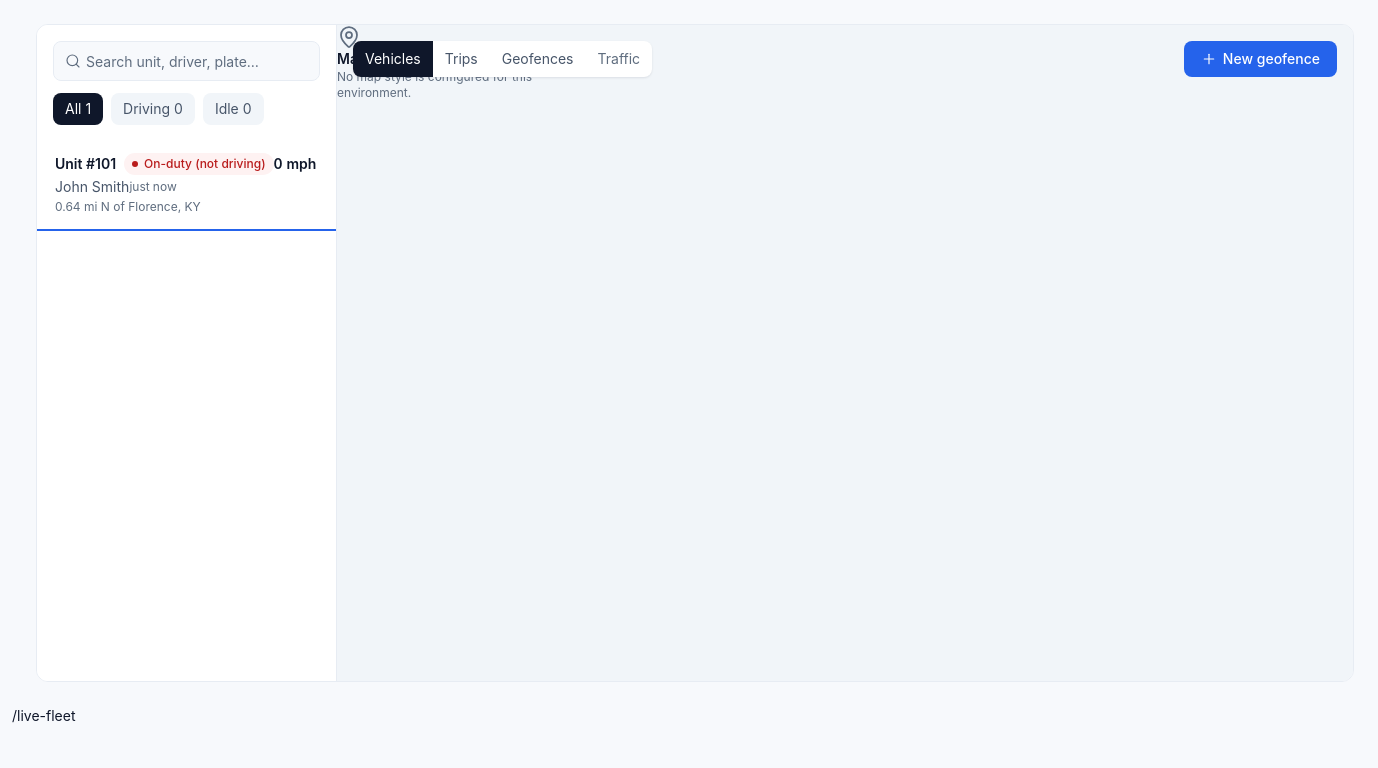
W-02 Live Fleet › the left column is a fully keyboard-operable list — no pointer required to select a unit
Press Enter
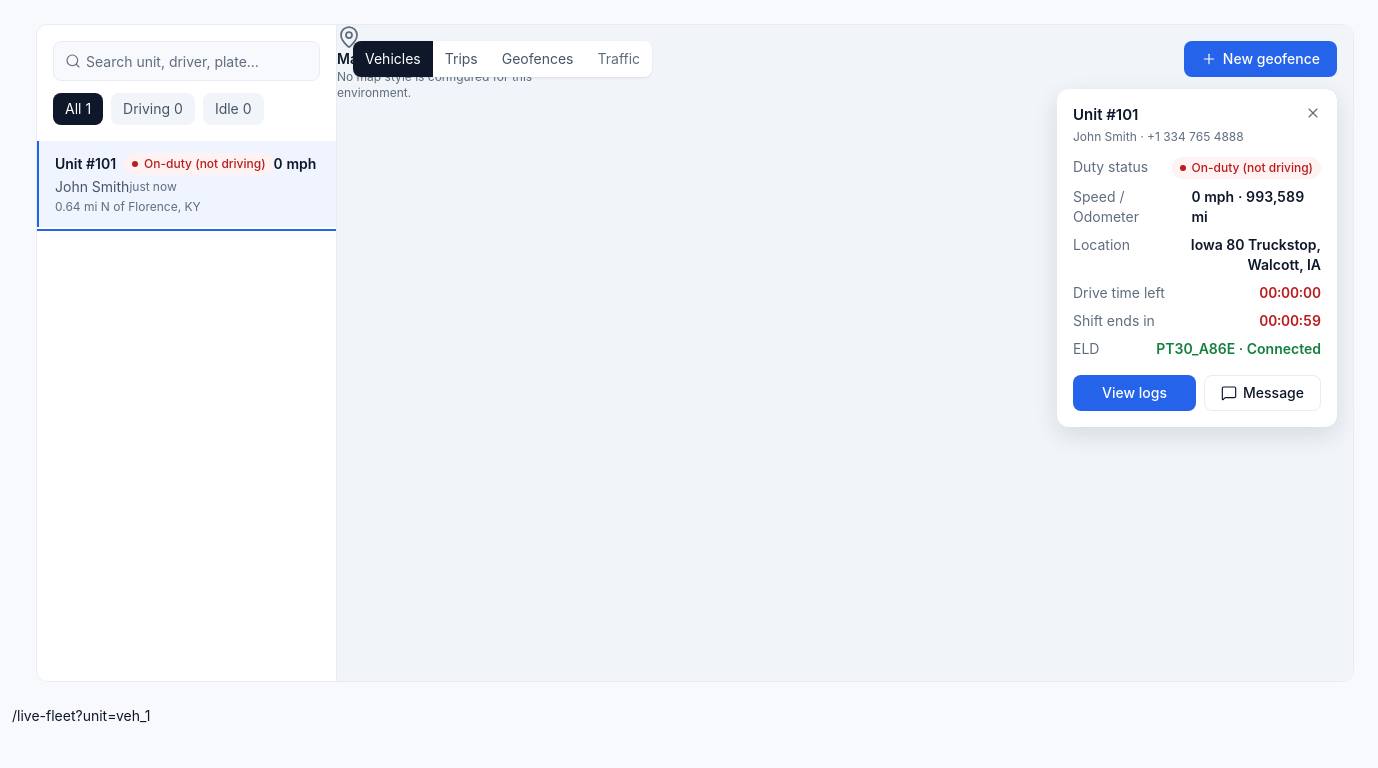
Now the button "View logs" is shown, box 1073,375 -> 1196,411
Now the text "John Smith · +1 334 765 4888" is shown, box 1073,129 -> 1244,144
// `Message` deep-links to this driver's conversation (WB-139), not the bare Messages page.
Click the button "Message" at [1263, 393], box 1204,375 -> 1321,411
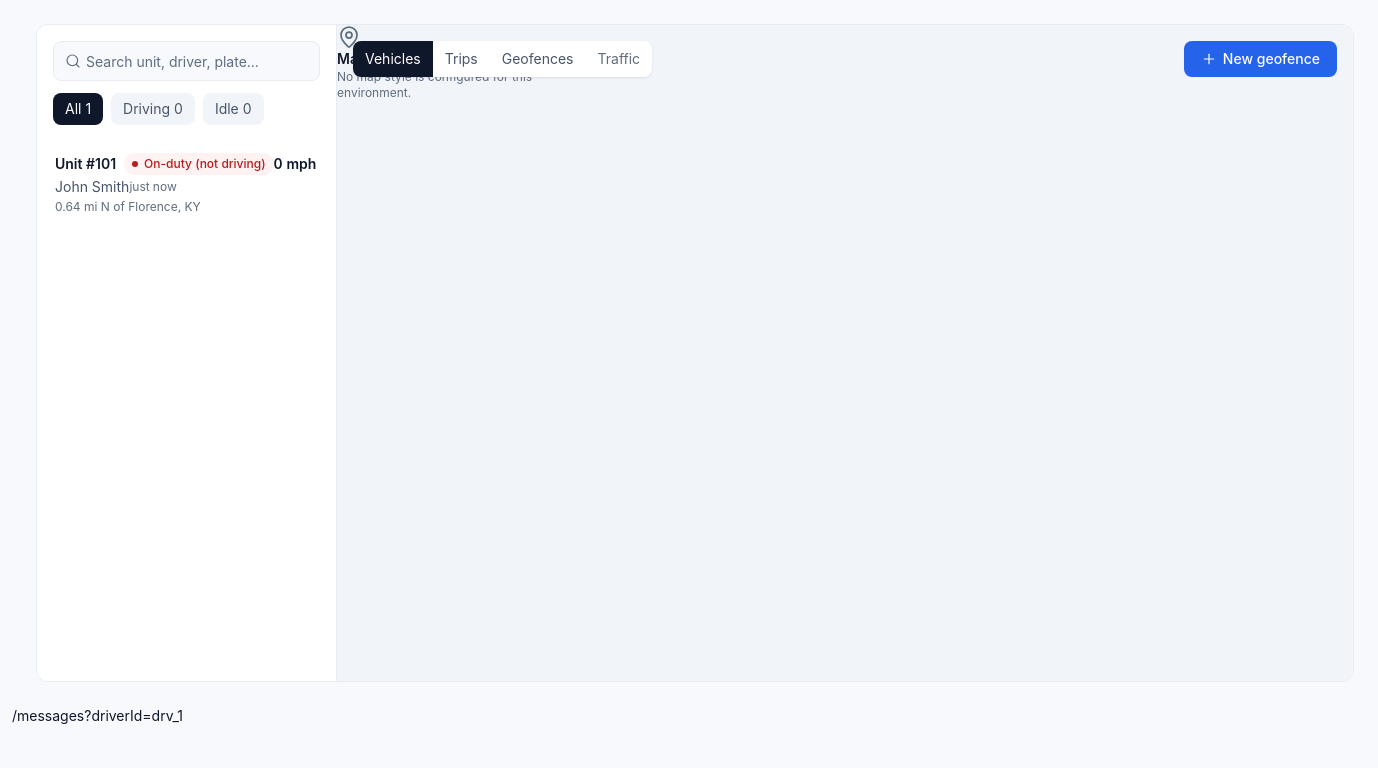
Now the text with test id "location" reads "/messages?driverId=drv_1", box 12,707 -> 183,724
